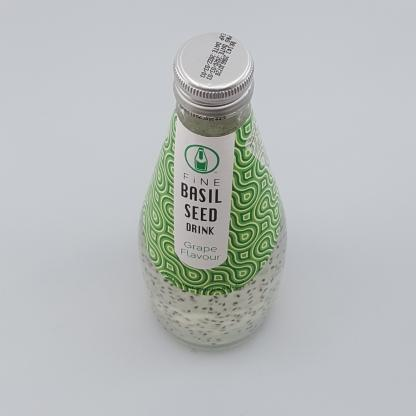------------------------: (139, 32, 287, 350)
